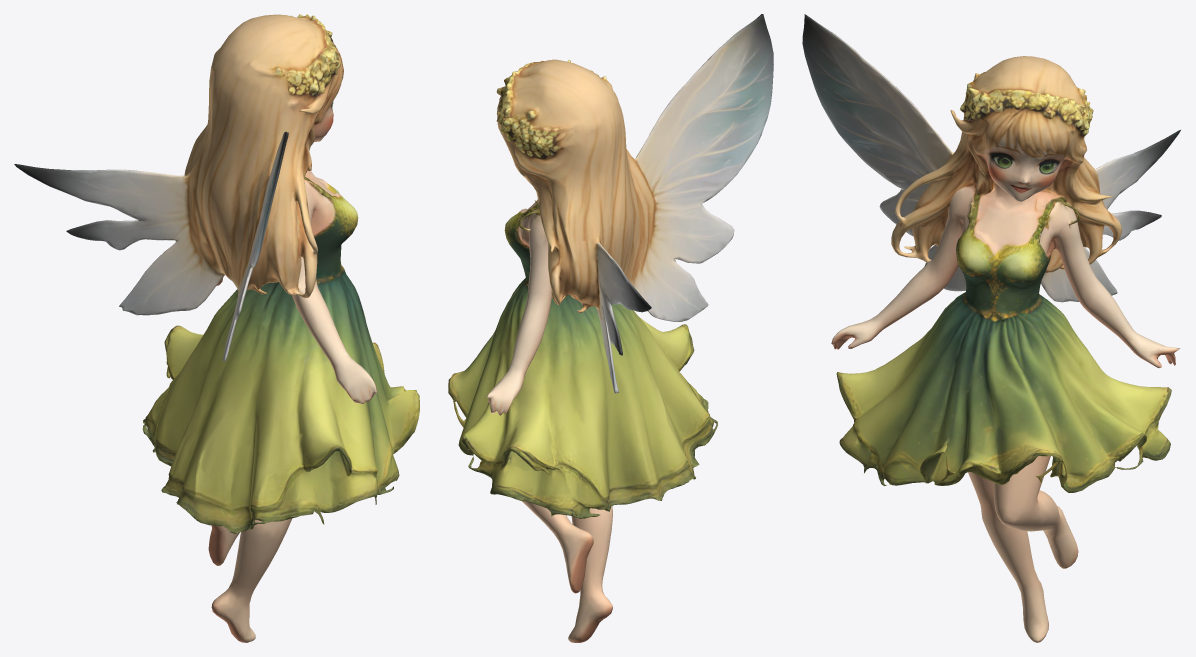
The model's file is tripo_convert_f3ad2a8f-ad49-4298-91ca-41f14630a413.fbx.
3 views of the same model, side by side, from view 1: azimuth 30°, elevation 25°; view 2: azimuth 150°, elevation 25°; view 3: azimuth 270°, elevation 25° (orthographic). The views are drawn at different scales.
Parts seen in each view (by area): view 1: tripo_node_f3ad2a8f; view 2: tripo_node_f3ad2a8f; view 3: tripo_node_f3ad2a8f.
Part boxes in pixels (left/top/right/bottom): tripo_node_f3ad2a8f: left=14, top=14, right=419, bottom=642; tripo_node_f3ad2a8f: left=448, top=14, right=773, bottom=642; tripo_node_f3ad2a8f: left=802, top=14, right=1180, bottom=642.
Size of the model in its own units: 0.4925 by 0.9992 by 0.5826.
